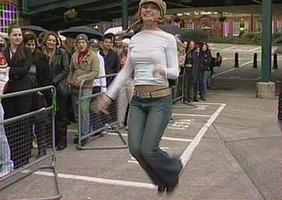person: (91, 2, 184, 195)
